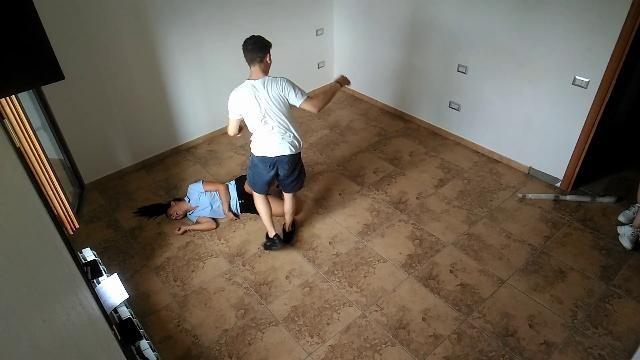violence: (132, 31, 352, 252)
